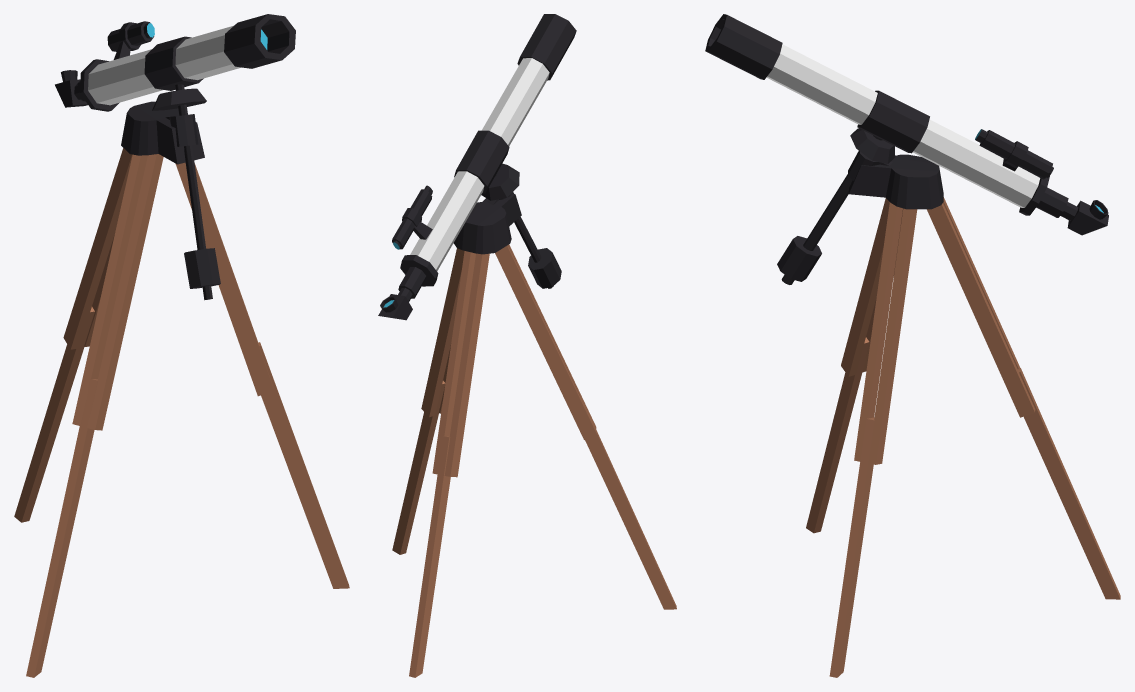
Rendered from Telescope.obj.
3 views of the same model, side by side, from view 1: azimuth 30°, elevation 25°; view 2: azimuth 150°, elevation 25°; view 3: azimuth 270°, elevation 25° (orthographic). The views are drawn at different scales.
Visible parts, largest first — view 1: Telescope; view 2: Telescope; view 3: Telescope.
Part boxes in pixels (<box>): Telescope: <box>14,14,349,677</box>; Telescope: <box>378,14,676,677</box>; Telescope: <box>705,14,1120,677</box>.
Bounding box in the file's own units: 0.5423 × 1 × 0.628.
1 material, 1 textured.
